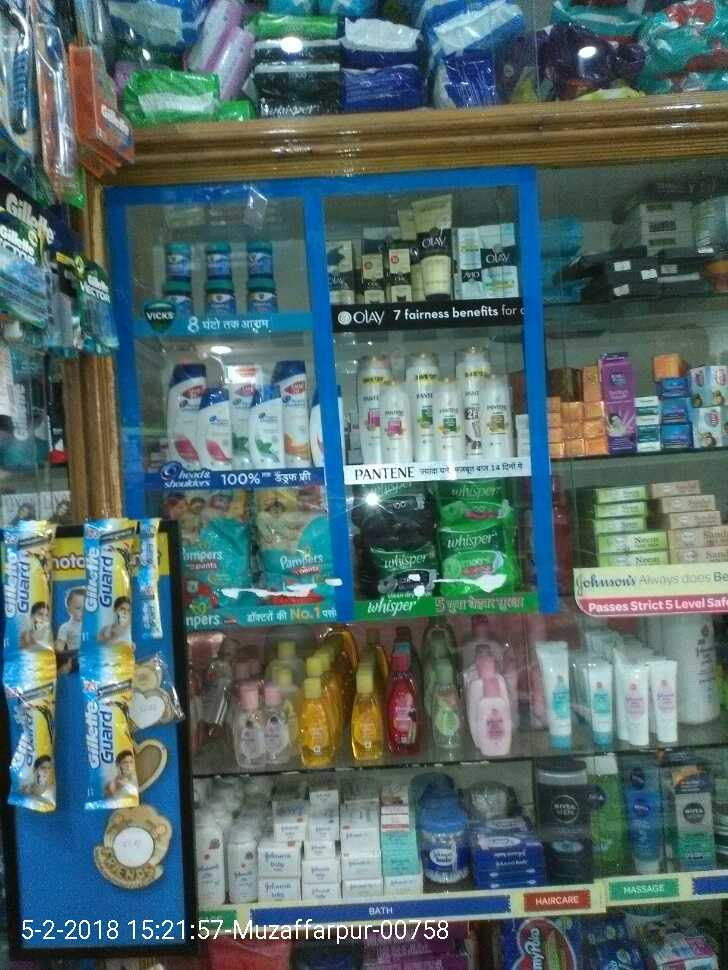vicks: (161, 234, 290, 323)
